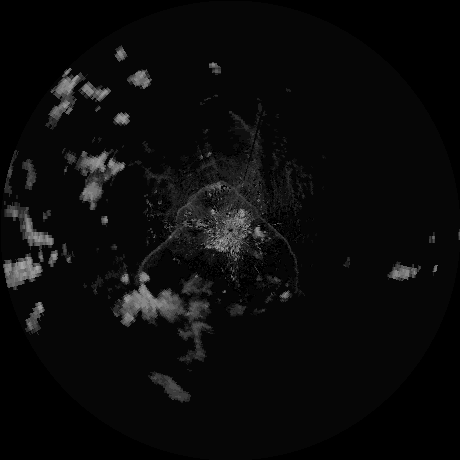frontgust: (225, 183, 300, 291), (139, 180, 222, 273)
